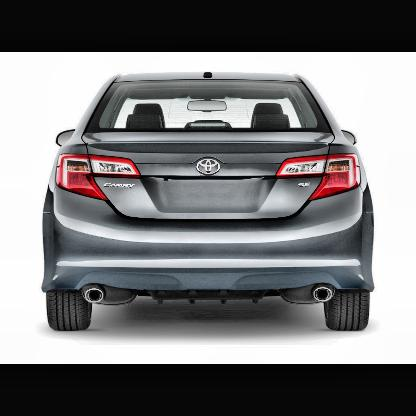Toyota Camry Sedan 2012: (40, 69, 376, 337)
